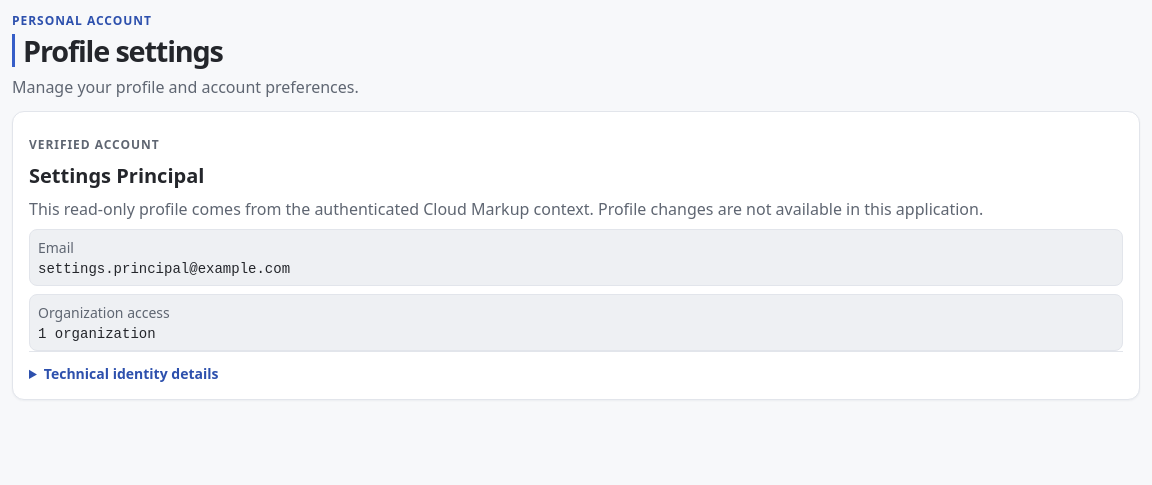
personal settings › renders only verified, read-only profile details from the current principal
Expected: the text "Verified account" is shown, [29,136,160,153]
Expected: the heading "Settings Principal" is shown, [29,162,204,189]
Click the heading "Technical identity details".
click(124, 374)  # box [29,364,218,383]
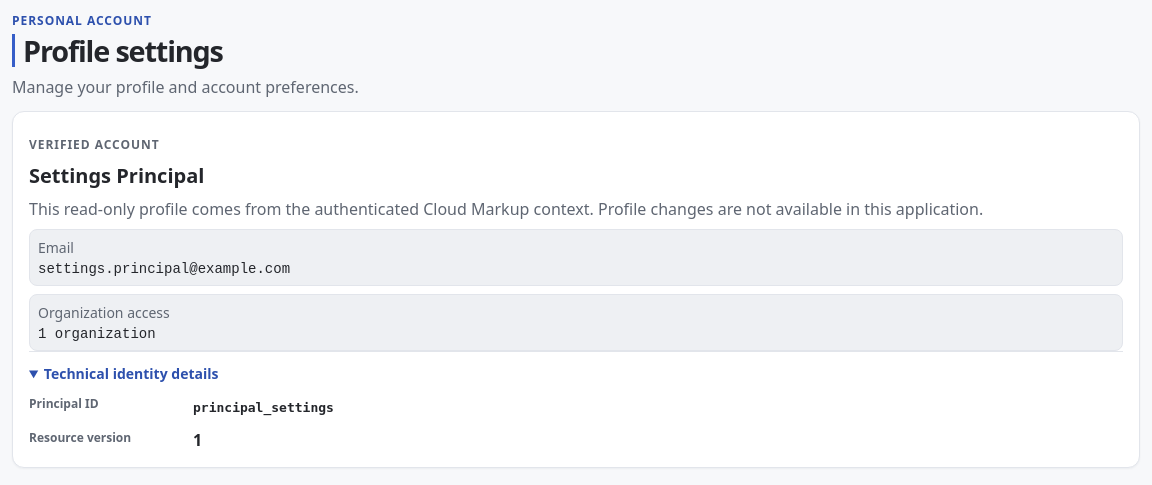
Result: the text "principal_settings" is shown at [193,400,334,415]
